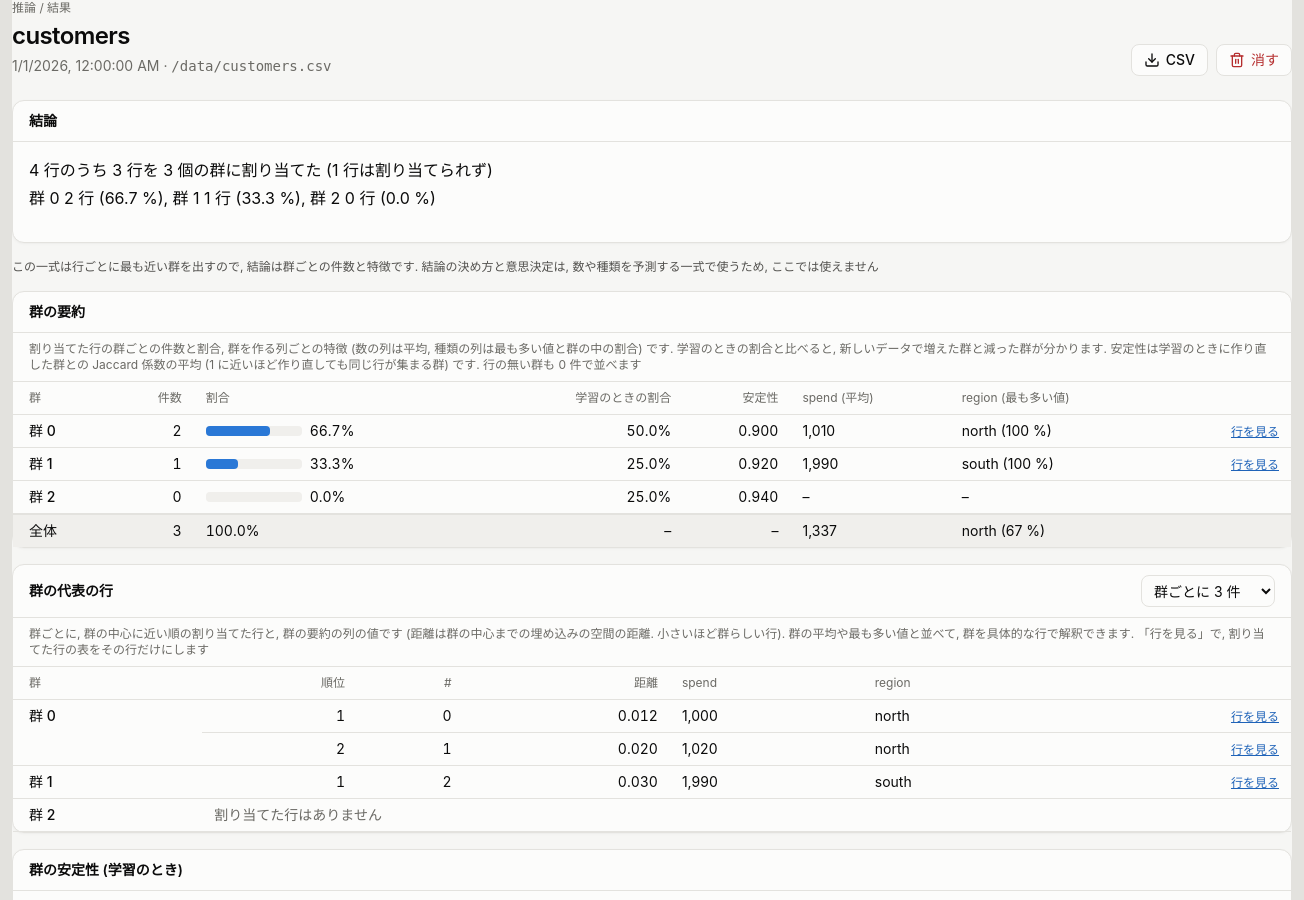
群分けの結果の画面 › 群の要約, 学習の群の安定性, 行ごとの群を出し, 群で行を絞る
Later steps or results of the test are not shown.
expect the list item "4 行のうち 3 行を 3 個の群に割り当てた (1 行は割り当てられず)" is shown: met, box [29,160,493,180]
expect the text "行ごとに最も近い群を出すので" is shown: met, box [12,259,879,274]
Note: 群の要約の「行を見る」で, 表をその群に絞る
Click the button with aria-label "群 1 の行を見る" at (1255,465), box [1231,457,1279,473]
(page scrolled)
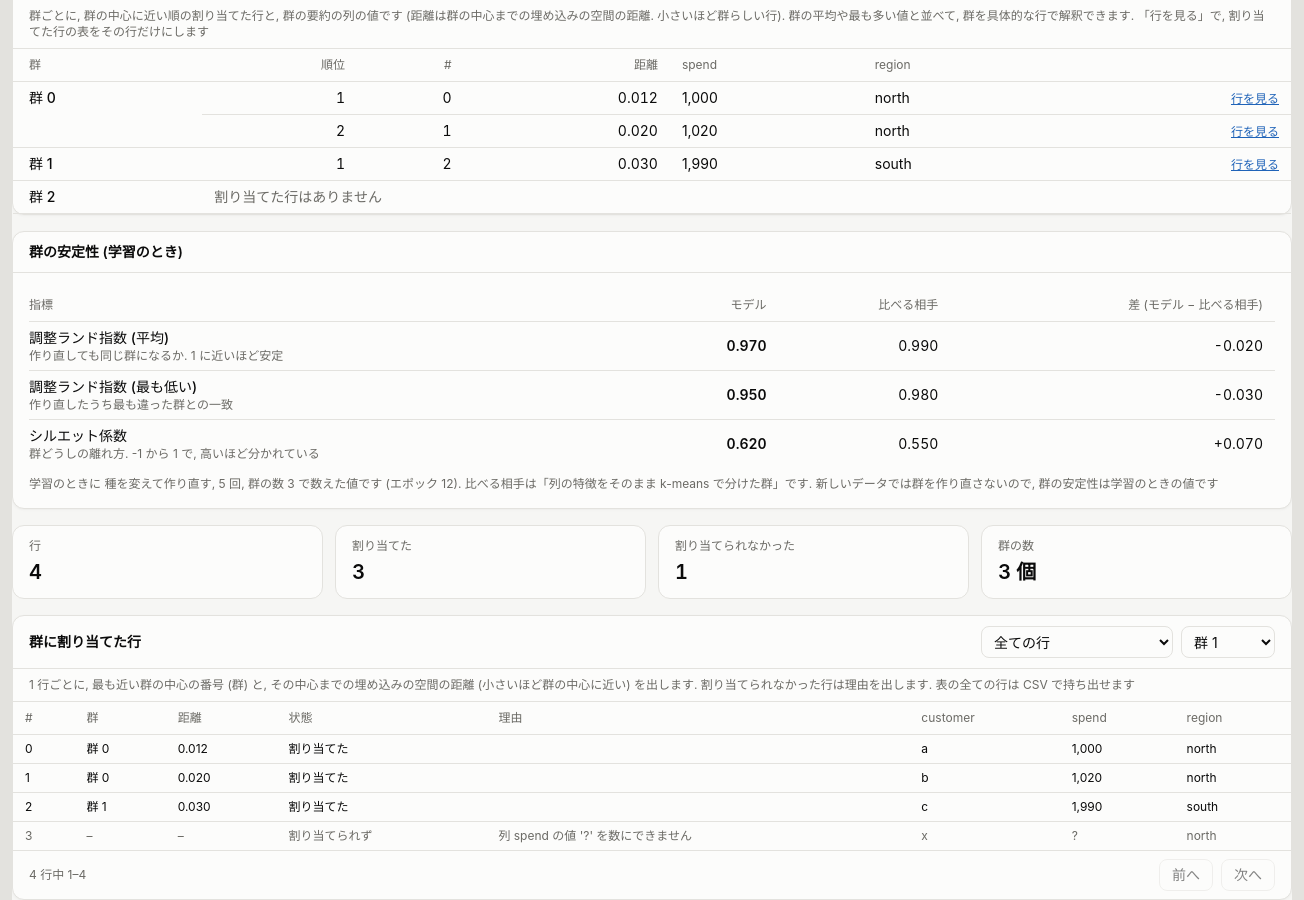
expect the 2nd dropdown named "群で絞る" shows "群 1": met, box [1181,626,1275,658]
